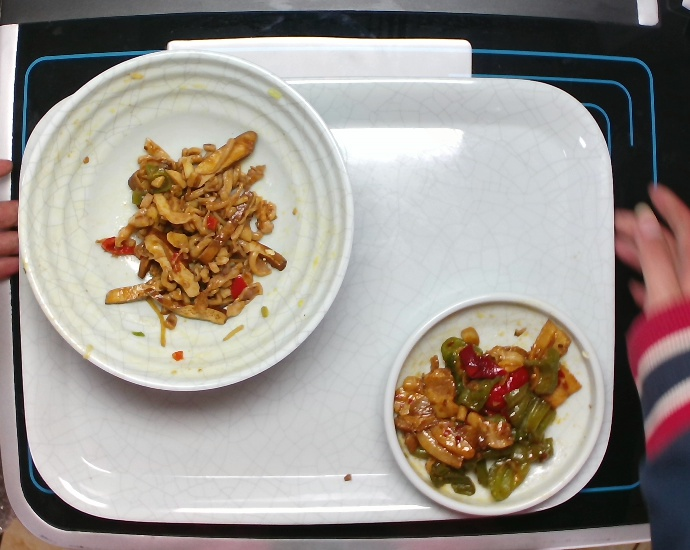JYsf-Da_Tang_Wan: (15, 45, 358, 393)
JYsf-Xiao_Yuan_Pan: (375, 282, 619, 526)
